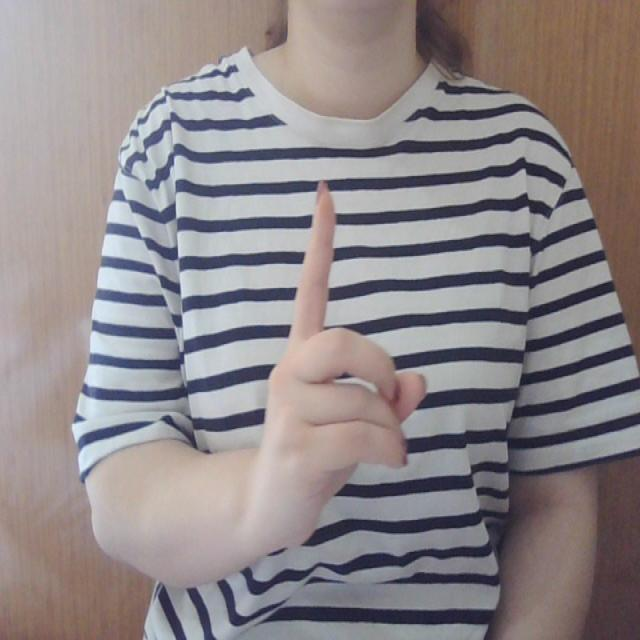Hayir: (255, 155, 435, 568)
